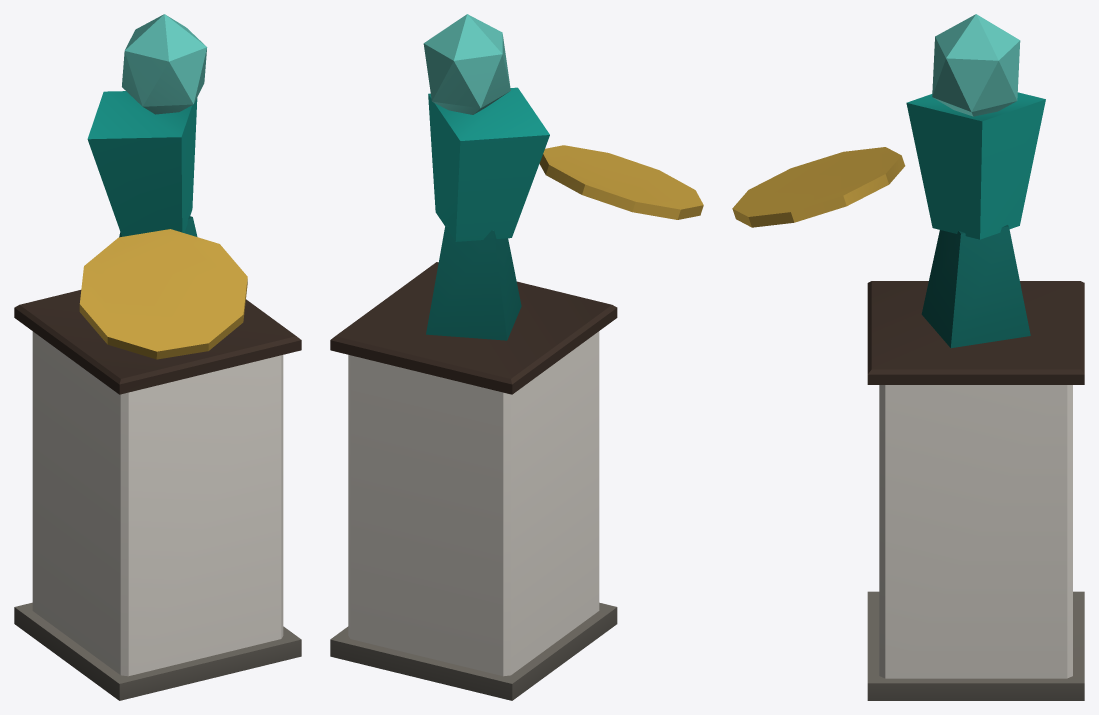
File: sculpture_01.glb
3 views of the same model, side by side, from view 1: azimuth 30°, elevation 25°; view 2: azimuth 150°, elevation 25°; view 3: azimuth 270°, elevation 25° (orthographic). The views are drawn at different scales.
Parts seen in each view (by area): view 1: sculpture_01_mesh; view 2: sculpture_01_mesh; view 3: sculpture_01_mesh.
Boxes of the visible parts, x1=… form: sculpture_01_mesh: x1=14, y1=14, x2=301, y2=700; sculpture_01_mesh: x1=330, y1=14, x2=703, y2=700; sculpture_01_mesh: x1=732, y1=14, x2=1084, y2=700.
Bounding box in the file's own units: 0.7189 × 1.84 × 0.9097.
1 material, 1 textured.
